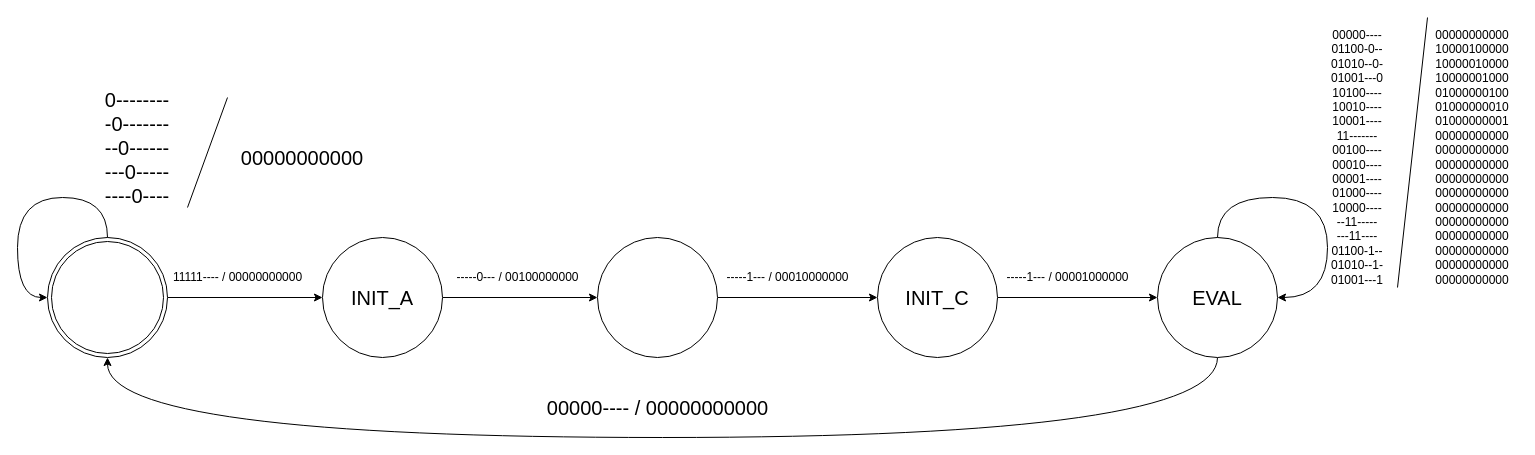
Image size: 1535x455. Some labels were removed from this diagram. Each missing label, with the centre of its shape:
"INIT_B" belongs at [657,297].
"OFF" belongs at [107,297].
